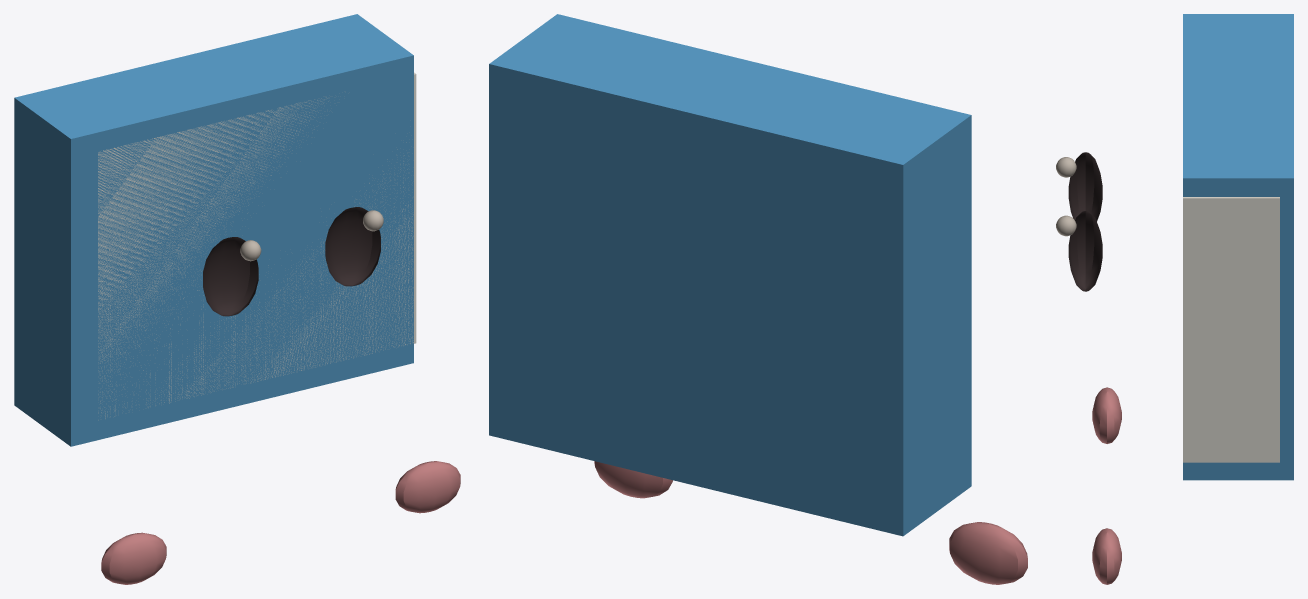
3 views of the same model, side by side, from view 1: azimuth 30°, elevation 25°; view 2: azimuth 150°, elevation 25°; view 3: azimuth 270°, elevation 25° (orthographic). The views are drawn at different scales.
Visible parts, largest first — view 1: pet_p7e5c68af; view 2: pet_p7e5c68af; view 3: pet_p7e5c68af.
Boxes of the visible parts, <box> form: pet_p7e5c68af: <box>14,14,460,584</box>; pet_p7e5c68af: <box>489,14,1027,584</box>; pet_p7e5c68af: <box>1056,14,1293,584</box>.
Size of the model in its own units: 0.2932 by 0.3289 by 0.1714.
